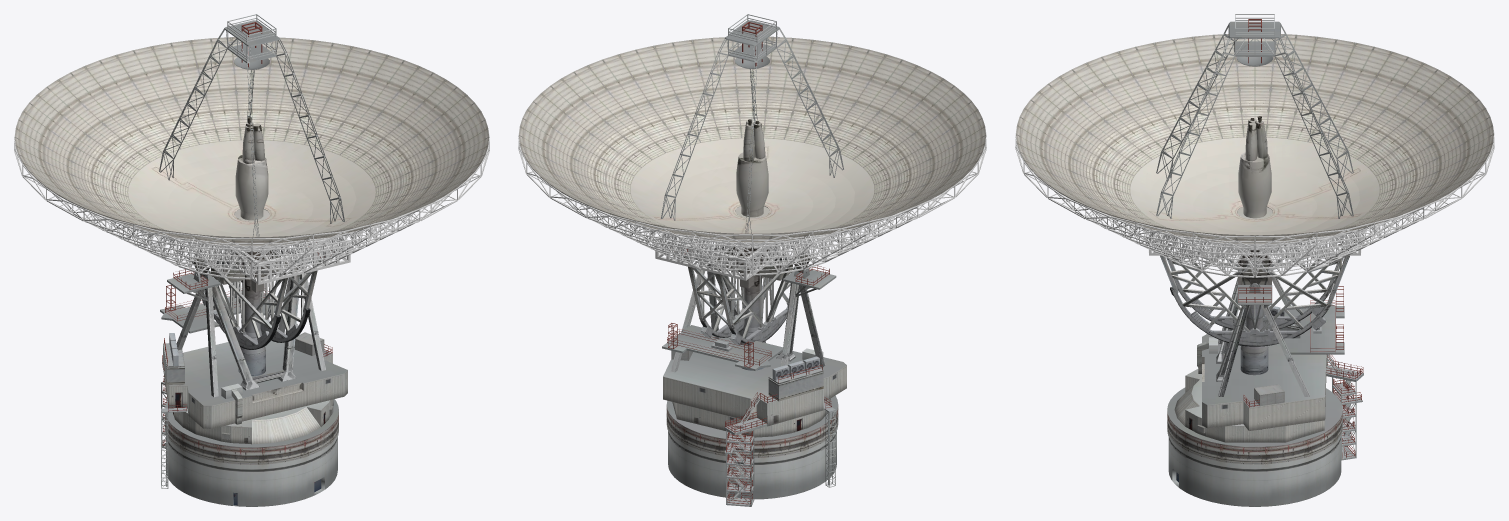
The model's file is dsn70.glb.
3 renders of one model, left to right at view 1: azimuth 30°, elevation 25°; view 2: azimuth 150°, elevation 25°; view 3: azimuth 270°, elevation 25°, orthographic. The views are drawn at different scales.
Parts seen in each view (by area): view 1: dish, azimuth, base, truss_box; view 2: dish, azimuth, truss_box, base; view 3: dish, azimuth, base, truss_box.
Part boxes in pixels (left/top/right/bottom): dish: left=14, top=37, right=489, bottom=245; azimuth: left=159, top=14, right=347, bottom=488; base: left=165, top=399, right=338, bottom=506; truss_box: left=14, top=112, right=489, bottom=284; dish: left=519, top=36, right=985, bottom=242; azimuth: left=661, top=14, right=846, bottom=506; truss_box: left=518, top=109, right=986, bottom=280; base: left=666, top=395, right=838, bottom=499; dish: left=1016, top=34, right=1493, bottom=243; azimuth: left=1155, top=14, right=1363, bottom=460; base: left=1167, top=387, right=1342, bottom=506; truss_box: left=1015, top=109, right=1494, bottom=277.
Bounding box in the file's own units: 70.07 × 72.93 × 70.07.
3 materials, 2 textured.
